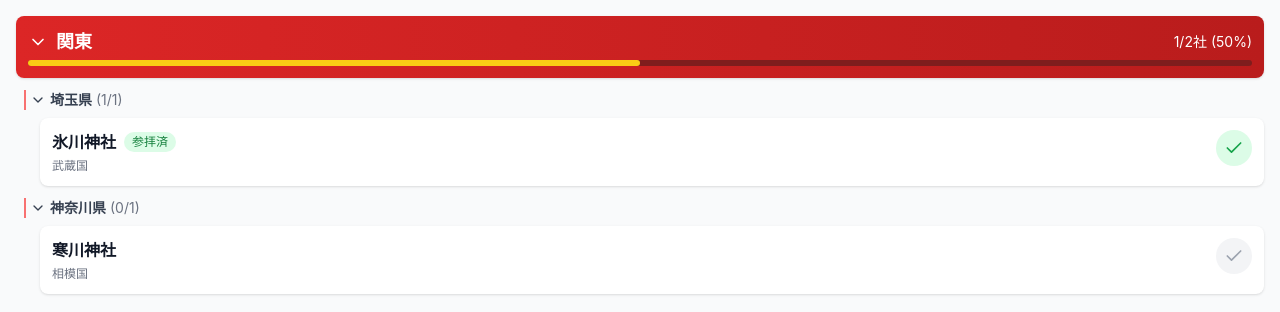
Test: ShrineListView – prefecture collapse › clicking collapsed prefecture header expands it
The width and height of the screenshot is (1280, 312).
Click the text "埼玉県" at (71,100), box [50, 90, 92, 110]
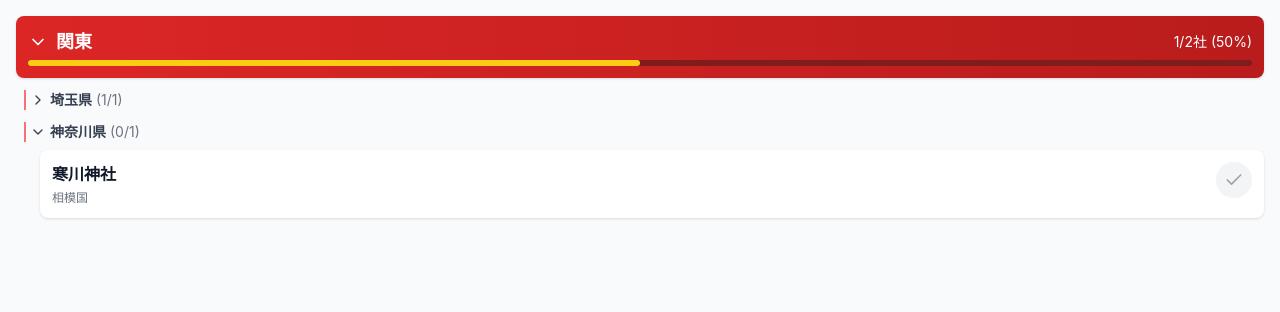
Click the text "埼玉県" at (71,100), box [50, 90, 92, 110]
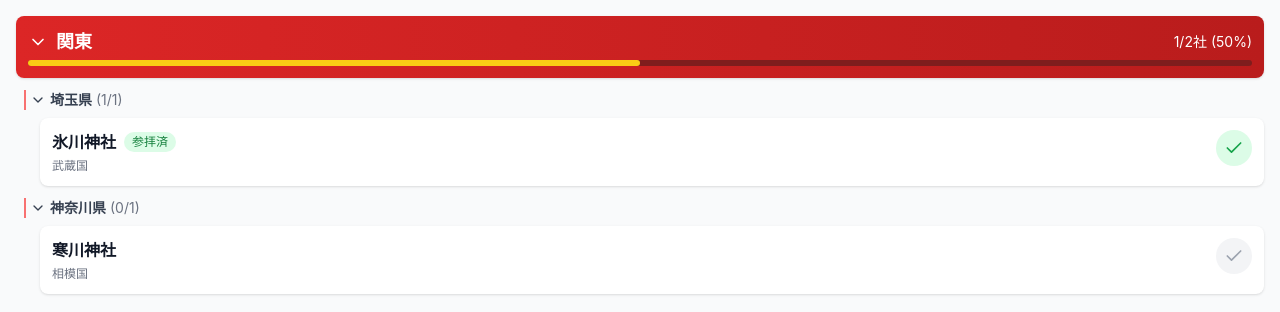
Expected: the heading "氷川神社" is shown, [52, 130, 116, 154]
